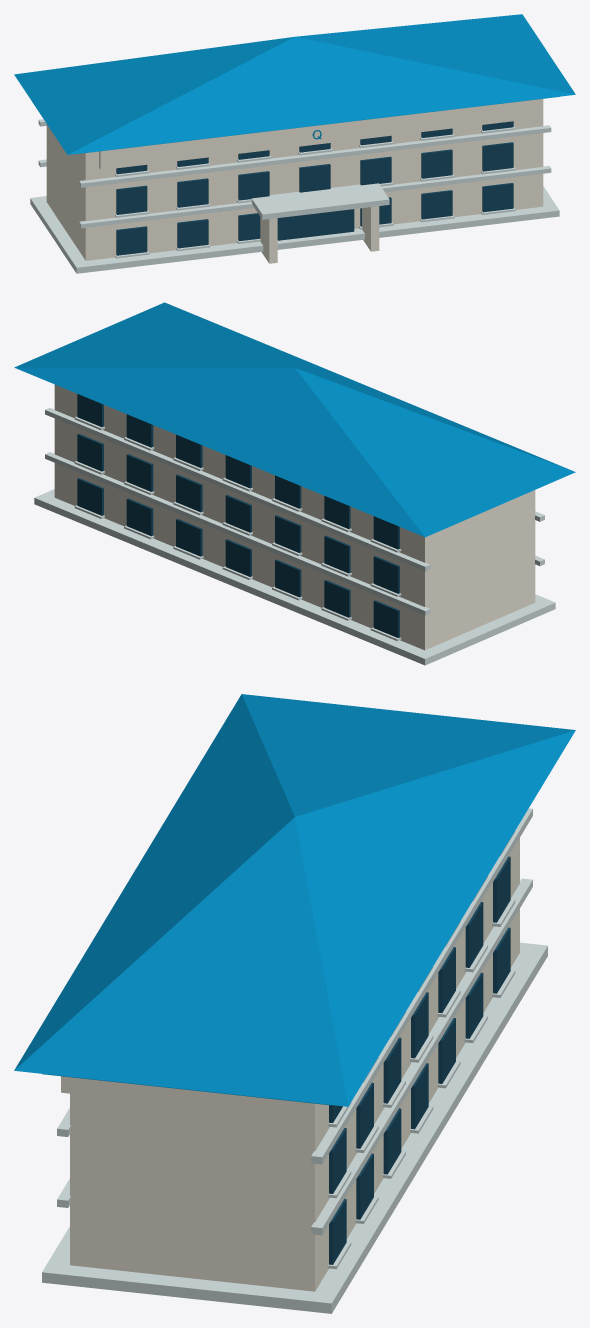
File: pkm.glb
3 renders of one model, top to bottom at view 1: azimuth 30°, elevation 25°; view 2: azimuth 150°, elevation 25°; view 3: azimuth 270°, elevation 25°, orthographic. The views are drawn at different scales.
Parts seen in each view (by area): view 1: PKM_blue, PKM_ivory, PKM_trim, PKM_glass; view 2: PKM_blue, PKM_ivory, PKM_trim, PKM_glass; view 3: PKM_blue, PKM_ivory, PKM_trim, PKM_glass.
Part boxes in pixels (box(x1,y1,x2,y2)): PKM_blue: box(14, 14, 575, 154); PKM_ivory: box(46, 99, 543, 263); PKM_trim: box(30, 119, 559, 273); PKM_glass: box(116, 121, 513, 255); PKM_blue: box(14, 302, 575, 537); PKM_ivory: box(54, 384, 535, 650); PKM_trim: box(34, 408, 555, 665); PKM_glass: box(77, 394, 399, 637); PKM_blue: box(14, 694, 575, 1106); PKM_ivory: box(61, 838, 519, 1291); PKM_trim: box(42, 808, 547, 1313); PKM_glass: box(329, 856, 510, 1264).
Size of the model in its own units: 42.47 by 14.75 by 24.43.
